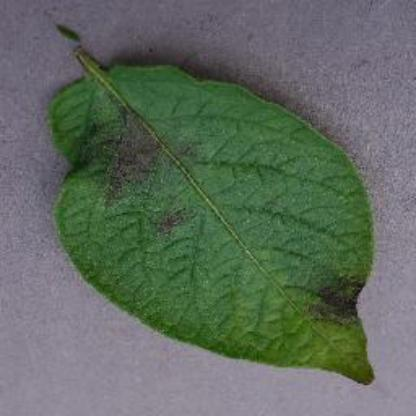Late-Blight: (43, 51, 383, 386)
